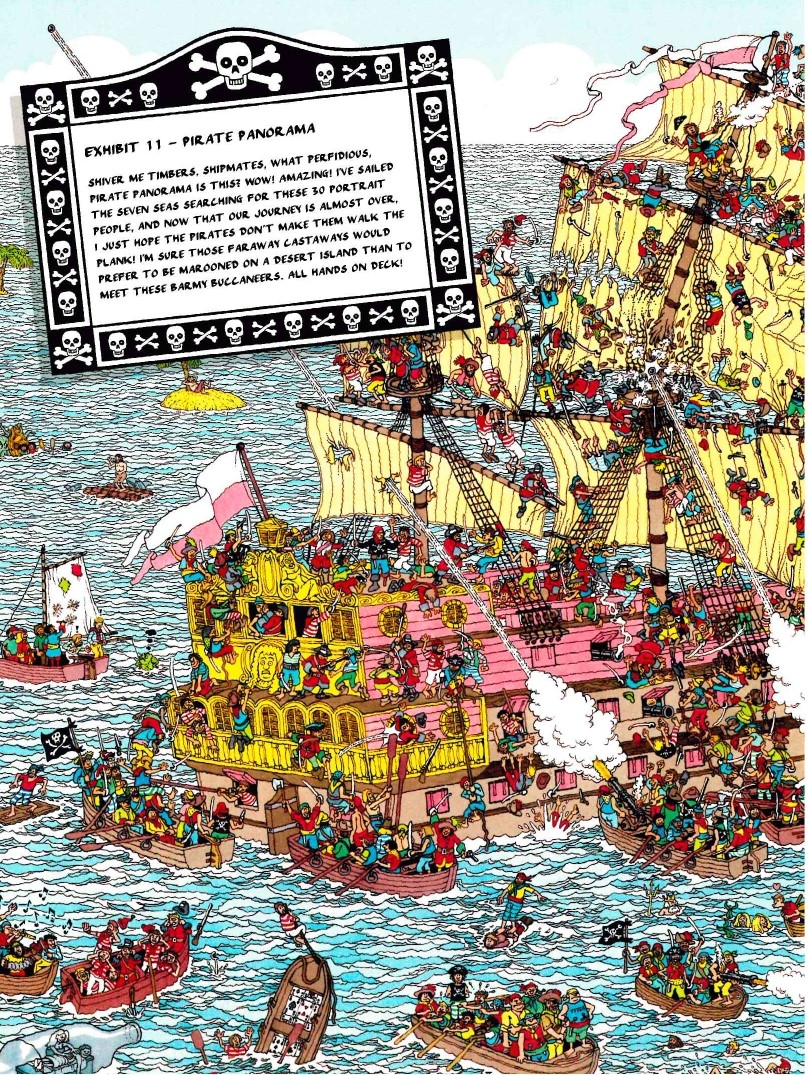waldos: (99, 748, 116, 770)
